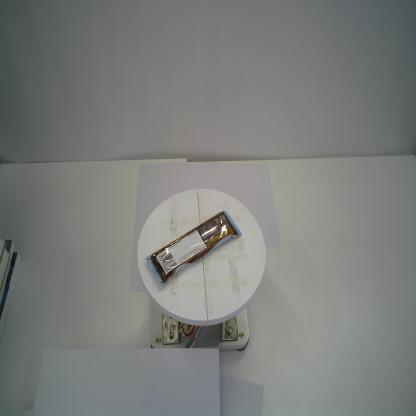Chocolate: (144, 209, 242, 285)
